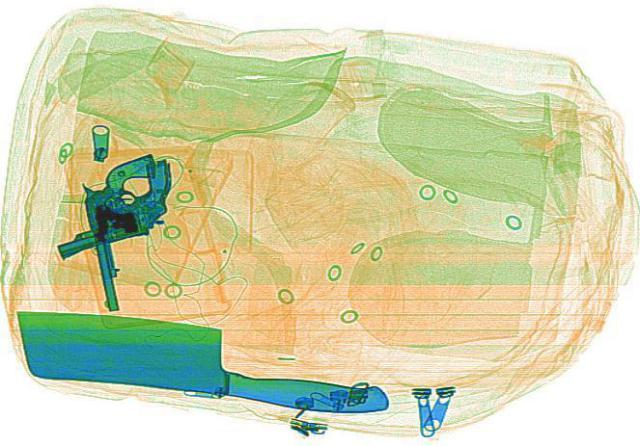Gun: (24, 148, 208, 274), (64, 157, 160, 317)
Knife: (0, 304, 400, 417)
